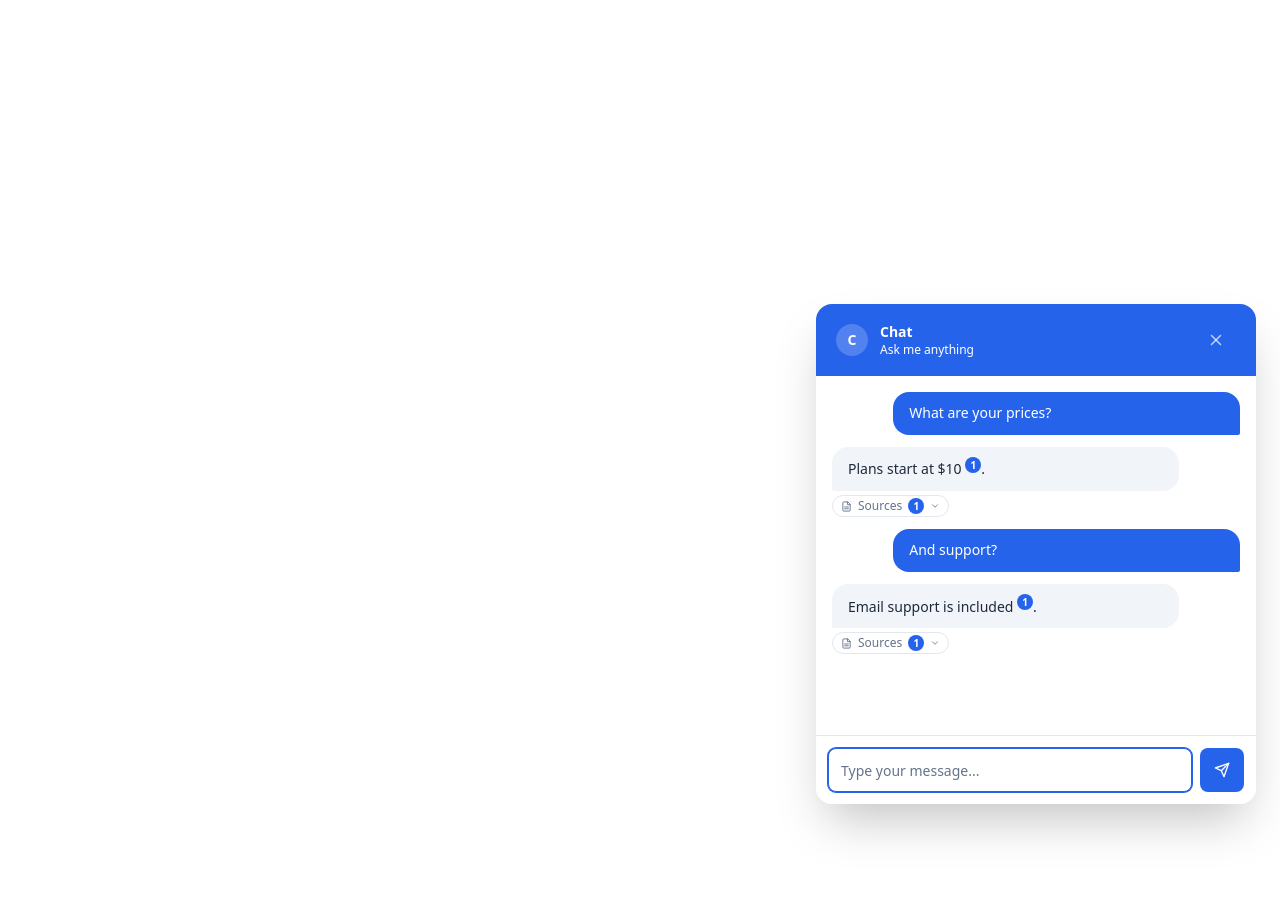
Test: ChatWindow citations › each cited reply keeps its own footer state
Click the button "Sources 1" below "Plans start at $10": click(891, 506) [832,495,949,517]
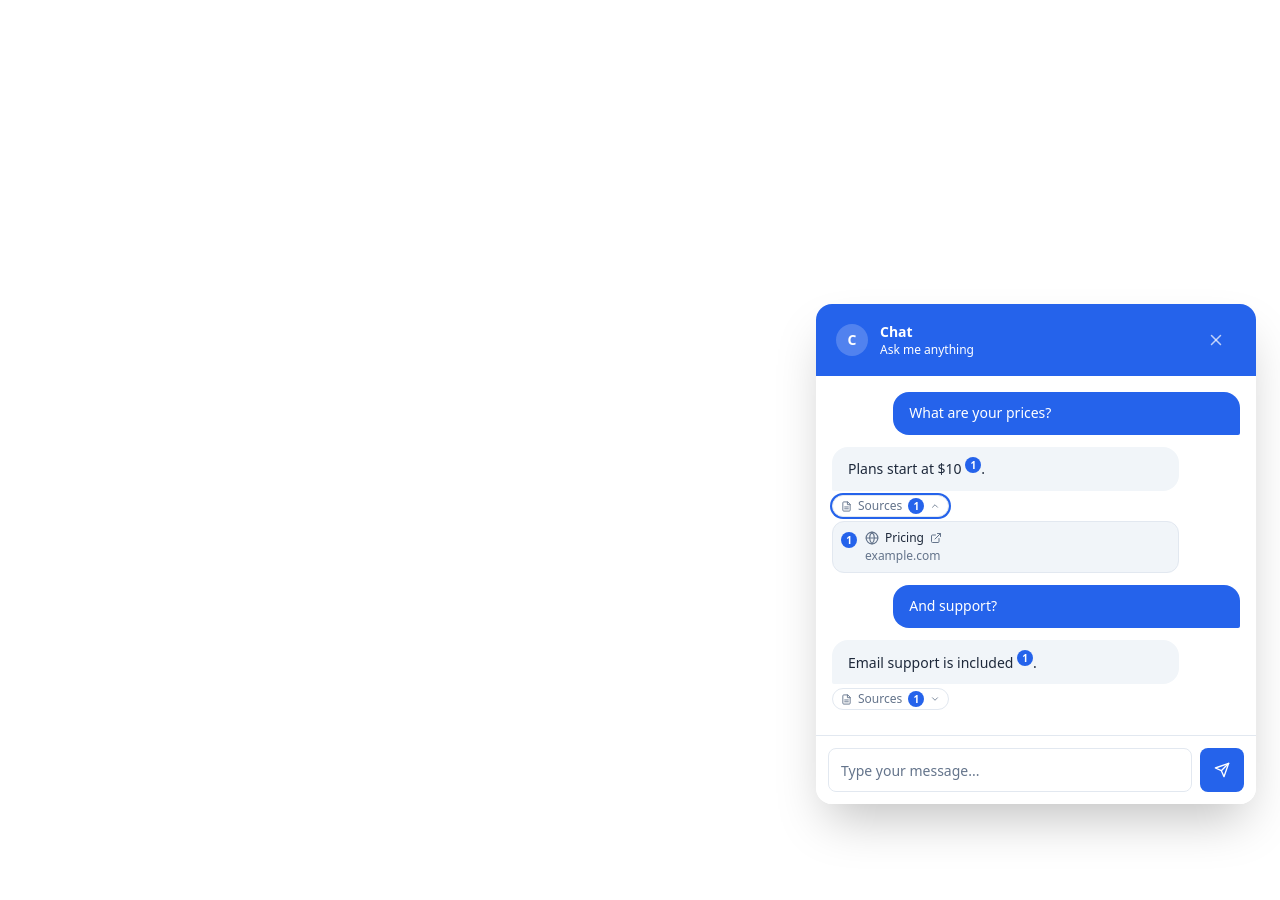
Expected: the button "Sources 1" below "Plans start at $10" is expanded, [832,495,949,517]
Expected: the number of lists named "Sources" is 1, [832,521,1179,573]
